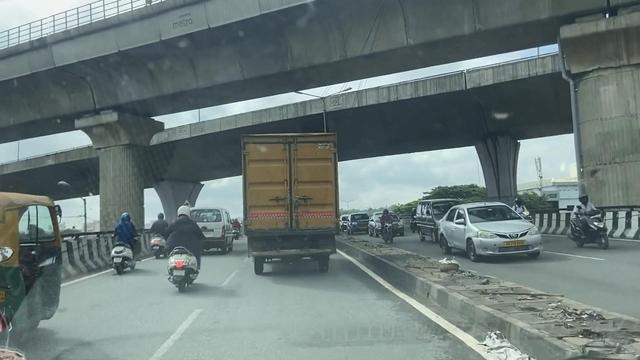HMV: (242, 128, 342, 271)
LMV: (168, 204, 200, 292), (107, 210, 146, 281)
